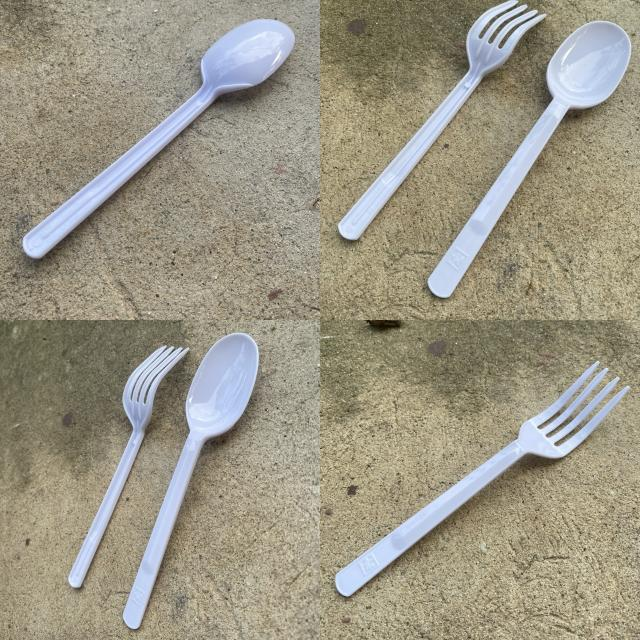Single-Use-Plastic: (335, 361, 629, 596), (22, 19, 295, 258), (428, 21, 631, 298), (339, 0, 546, 239), (124, 334, 259, 629), (69, 346, 188, 588), (69, 346, 187, 588)
